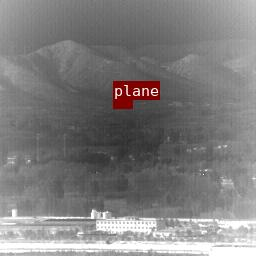plane: (113, 100, 132, 108)
